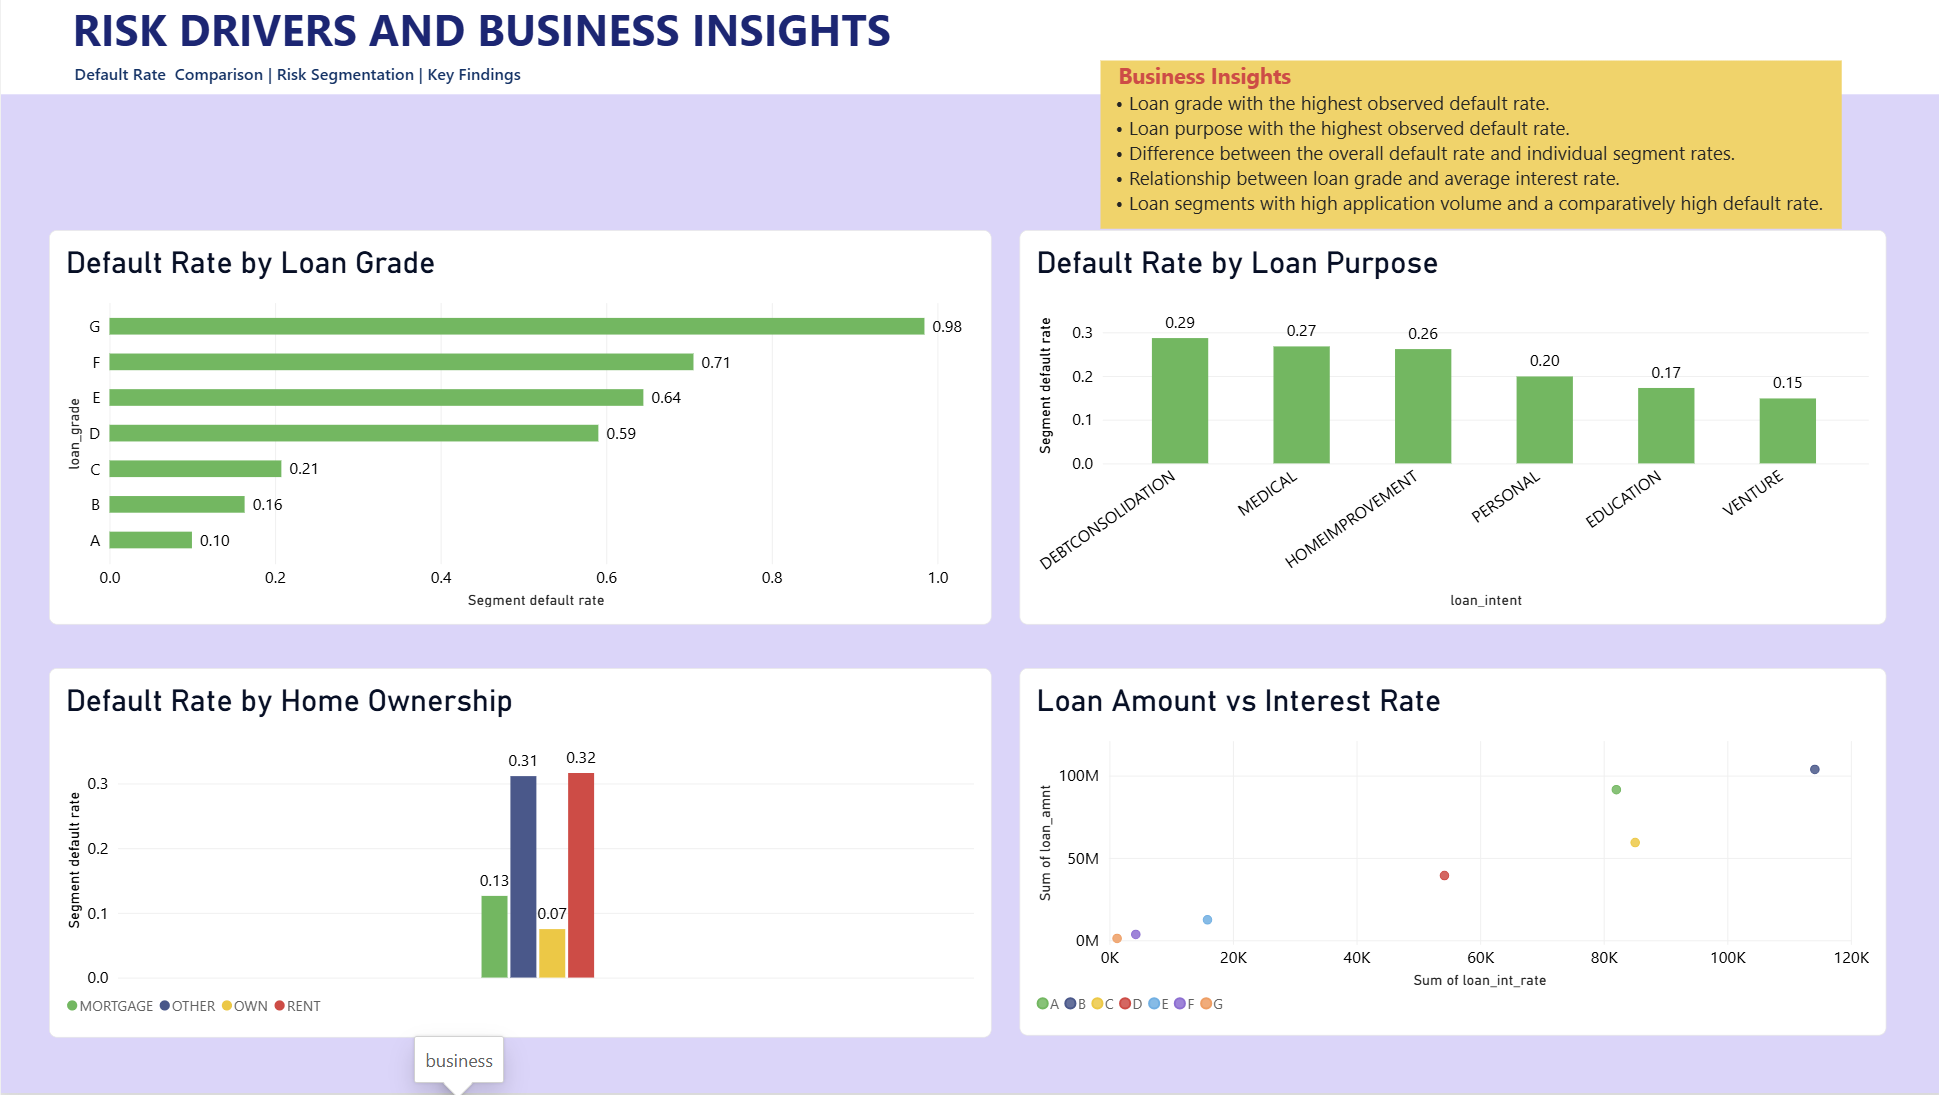

The page's visual inventory and layout, read from the dashboard file:
{"tool":"powerbi","page":{"name":" business","canvas":[1920,1080],"ordinal":2},"visuals":[{"type":"scatterChart","title":"Loan Amount vs Interest Rate","fields":{"Series":["loan_risk_portfolio credit_risk_dataset.loan_grade"],"X":["Sum(loan_risk_portfolio credit_risk_dataset.loan_int_rate)"],"Y":["Sum(loan_risk_portfolio credit_risk_dataset.loan_amnt)"]},"box":[1004.6,660.8,855.6,362.9],"z":0},{"type":"columnChart","title":"Default Rate by Loan Purpose","fields":{"Category":["loan_risk_portfolio credit_risk_dataset.loan_intent"],"Y":["loan_risk_portfolio credit_risk_dataset.Segment default rate"]},"box":[1004.6,227.3,855.6,389.6],"z":1},{"type":"clusteredColumnChart","title":"Default Rate by Home Ownership","fields":{"Series":["loan_risk_portfolio credit_risk_dataset.person_home_ownership"],"Y":["loan_risk_portfolio credit_risk_dataset.Segment default rate"]},"box":[47.7,660.8,930.1,364.8],"z":2},{"type":"clusteredBarChart","title":"Default Rate by Loan Grade","fields":{"Category":["loan_risk_portfolio credit_risk_dataset.loan_grade"],"Y":["loan_risk_portfolio credit_risk_dataset.Segment default rate"]},"box":[47.7,227.3,930.1,389.6],"z":3},{"type":"textbox","box":[0,0,1920,94],"z":4},{"type":"textbox","box":[72,62,498,52],"z":5},{"type":"textbox","box":[1084.8,61.1,731.5,166.2],"z":6}]}

Visuals, with their boxes in screenshot pixels (x1, y1, x2, y2), scaled from the page's 1920x1080 canvas onto the 1939x1095 screenshot:
"Loan Amount vs Interest Rate" scatterChart: x1=1015, y1=670, x2=1879, y2=1038
"Default Rate by Loan Purpose" columnChart: x1=1015, y1=230, x2=1879, y2=625
"Default Rate by Home Ownership" clusteredColumnChart: x1=48, y1=670, x2=987, y2=1040
"Default Rate by Loan Grade" clusteredBarChart: x1=48, y1=230, x2=987, y2=625
textbox: x1=0, y1=0, x2=1938, y2=95
textbox: x1=73, y1=63, x2=576, y2=116
textbox: x1=1096, y1=62, x2=1834, y2=230
